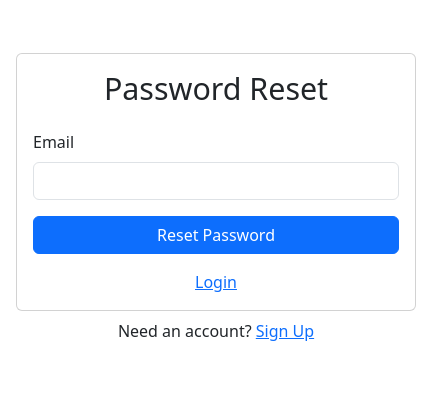
Test: Authentication Components › ForgotPassword › shows user not found error
Type "unknown@example.com" into the field at [216, 181], box [33,162,399,200]
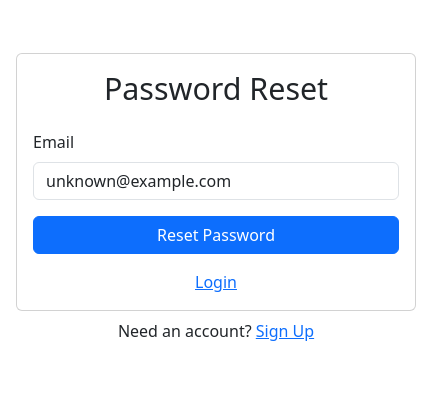
Click the button "Reset Password" at [216, 235], box [33,216,399,254]
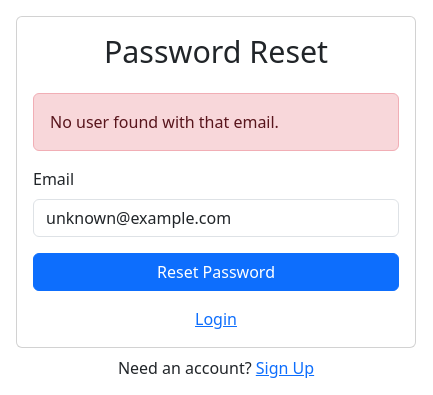
Expected: the text "No user found with that email." is shown, [33,93,399,151]
